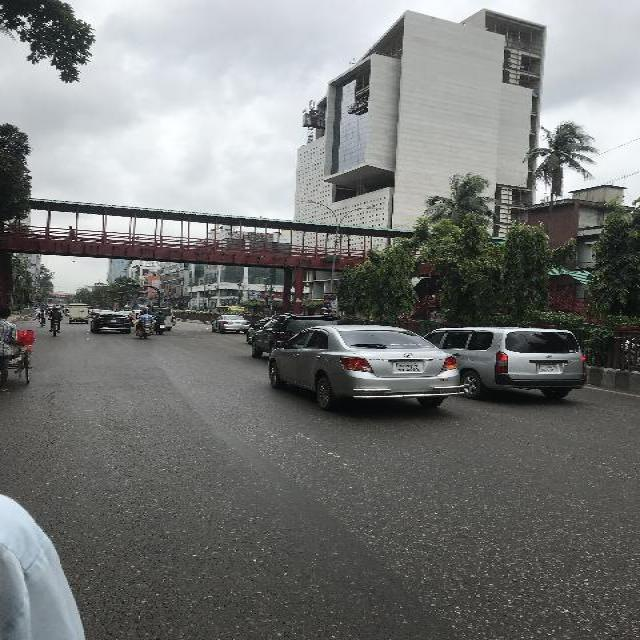bike: (134, 324, 151, 341), (48, 320, 63, 339), (152, 322, 168, 336), (39, 310, 47, 328)
vehicle: (268, 324, 468, 411), (467, 326, 586, 402), (89, 312, 133, 336), (211, 315, 251, 336), (68, 304, 89, 325), (91, 309, 99, 317), (47, 308, 54, 317)
